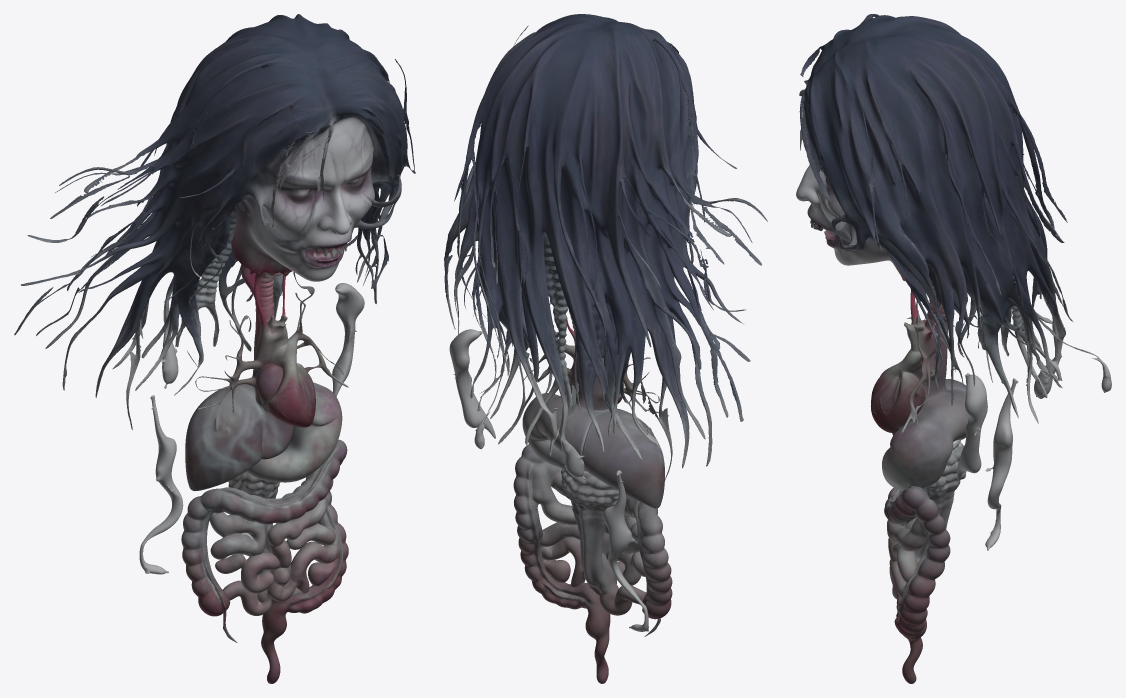
The model's file is ma-lai.glb.
3 views of the same model, side by side, from view 1: azimuth 30°, elevation 25°; view 2: azimuth 150°, elevation 25°; view 3: azimuth 270°, elevation 25° (orthographic).
Parts seen in each view (by area): view 1: baked; view 2: baked; view 3: baked.
Boxes of the visible parts, left/top/right/bottom form: baked: left=14, top=14, right=415, bottom=683; baked: left=444, top=14, right=767, bottom=683; baked: left=796, top=14, right=1111, bottom=683.
Bounding box in the file's own units: 0.5262 × 0.9827 × 0.4245.
